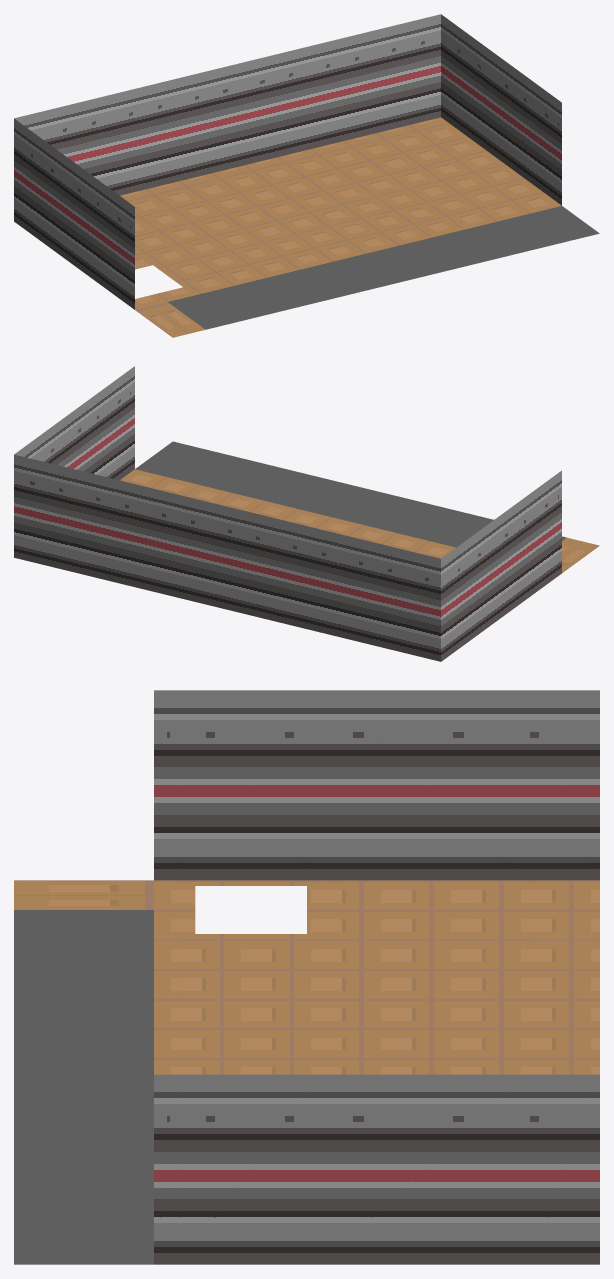
Rendered from GALHQ11-1.obj.
The picture shows the model from 3 angles, top to bottom: view 1: azimuth 30°, elevation 25°; view 2: azimuth 150°, elevation 25°; view 3: azimuth 270°, elevation 25°; orthographic projection. The views are drawn at different scales.
Visible parts, largest first — view 1: m_dun2606_00_00c; view 2: m_dun2606_00_00c; view 3: m_dun2606_00_00c.
Part boxes in pixels (x1,y1,x2,y2): m_dun2606_00_00c: (14,14,599,337); m_dun2606_00_00c: (14,366,599,661); m_dun2606_00_00c: (14,690,599,1264).
Bounding box in the file's own units: 208 × 48 × 134.
